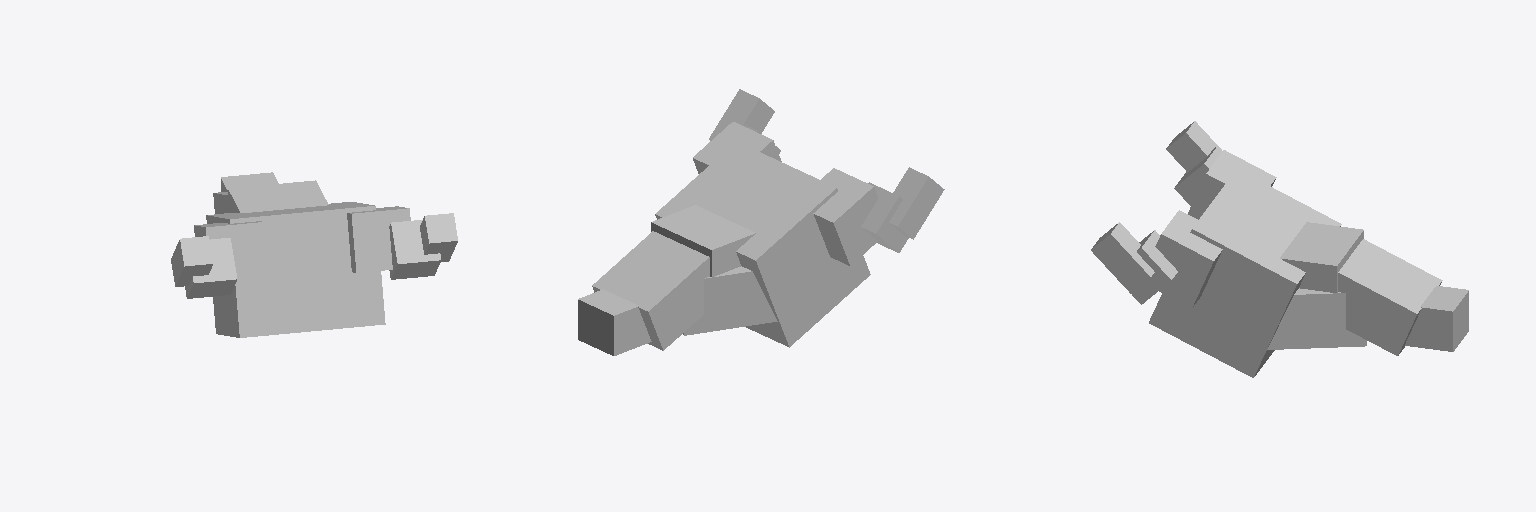
The model's file is animal_skull_1.obj.
3 renders of one model, left to right at view 1: azimuth 30°, elevation 25°; view 2: azimuth 150°, elevation 25°; view 3: azimuth 270°, elevation 25°, orthographic.
Parts seen in each view (by area): view 1: Base; view 2: Base; view 3: Base.
Part boxes in pixels (x1,y1,x2,y2): Base: (171, 172, 457, 337); Base: (578, 89, 944, 355); Base: (1091, 121, 1468, 377).
Size of the model in its own units: 0.6002 by 0.3575 by 0.7935.